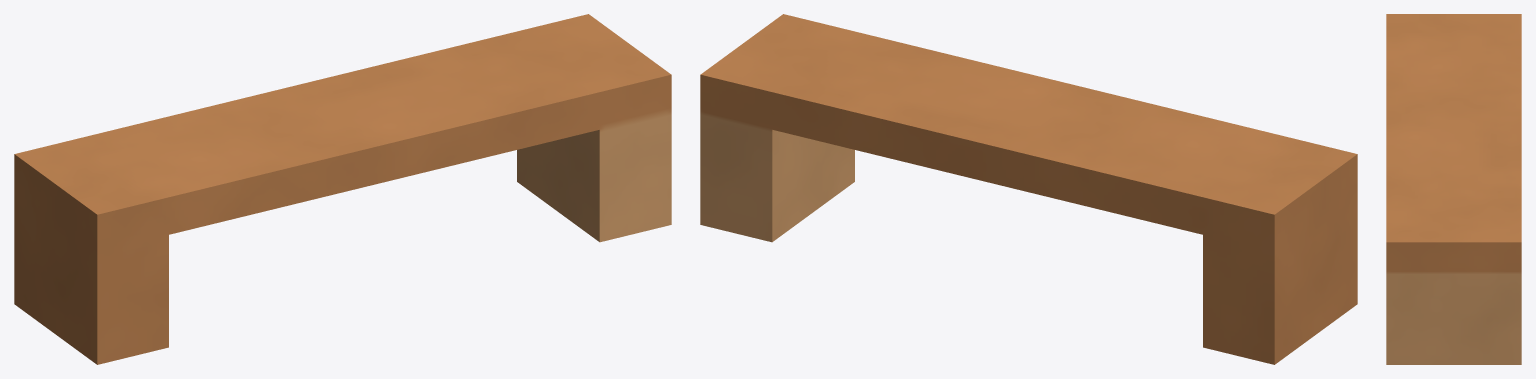
3 views of the same model, side by side, from view 1: azimuth 30°, elevation 25°; view 2: azimuth 150°, elevation 25°; view 3: azimuth 270°, elevation 25° (orthographic). The views are drawn at different scales.
Parts seen in each view (by area): view 1: ss17-sandstone-slab-bench; view 2: ss17-sandstone-slab-bench; view 3: ss17-sandstone-slab-bench.
Part boxes in pixels (x1,y1,x2,y2): ss17-sandstone-slab-bench: [14, 14, 671, 364]; ss17-sandstone-slab-bench: [700, 14, 1357, 364]; ss17-sandstone-slab-bench: [1386, 14, 1521, 364].
Bounding box in the file's own units: 200 × 50 × 50.
